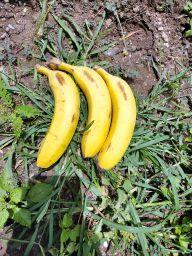banana: (47, 55, 114, 162), (33, 62, 82, 173), (91, 62, 138, 174)
